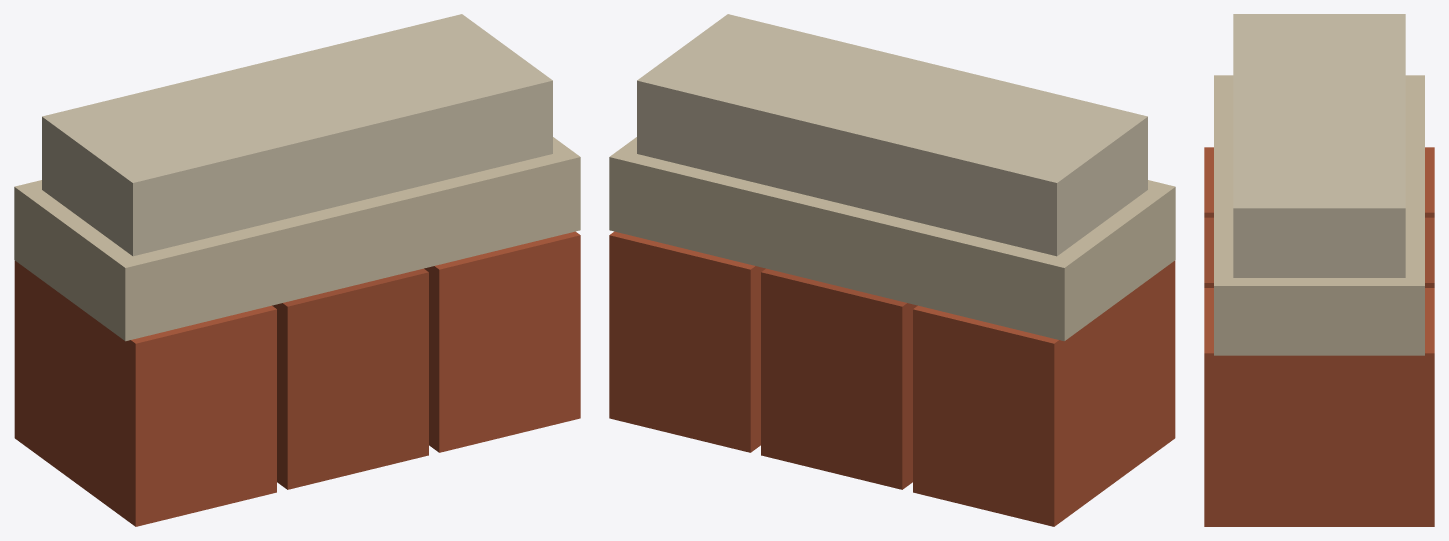
File: barrierA.glb
The picture shows the model from 3 angles, left to right: view 1: azimuth 30°, elevation 25°; view 2: azimuth 150°, elevation 25°; view 3: azimuth 270°, elevation 25°; orthographic projection. The views are drawn at different scales.
Visible parts, largest first — view 1: cappadocia-barrierA; view 2: cappadocia-barrierA; view 3: cappadocia-barrierA.
Boxes of the visible parts, <box> form: cappadocia-barrierA: <box>14,14,580,526</box>; cappadocia-barrierA: <box>609,14,1175,526</box>; cappadocia-barrierA: <box>1204,14,1434,526</box>.
Bounding box in the file's own units: 0.26 × 0.18 × 0.12.
